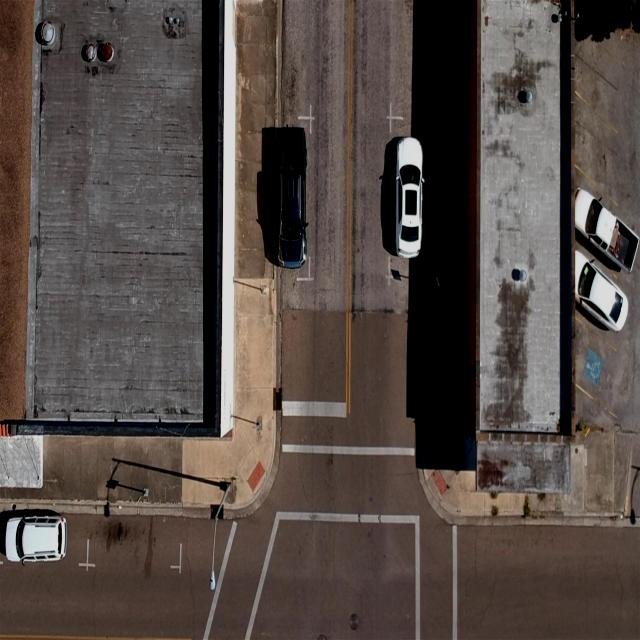Car: (276, 126, 308, 271), (4, 506, 68, 568), (394, 136, 424, 259)
